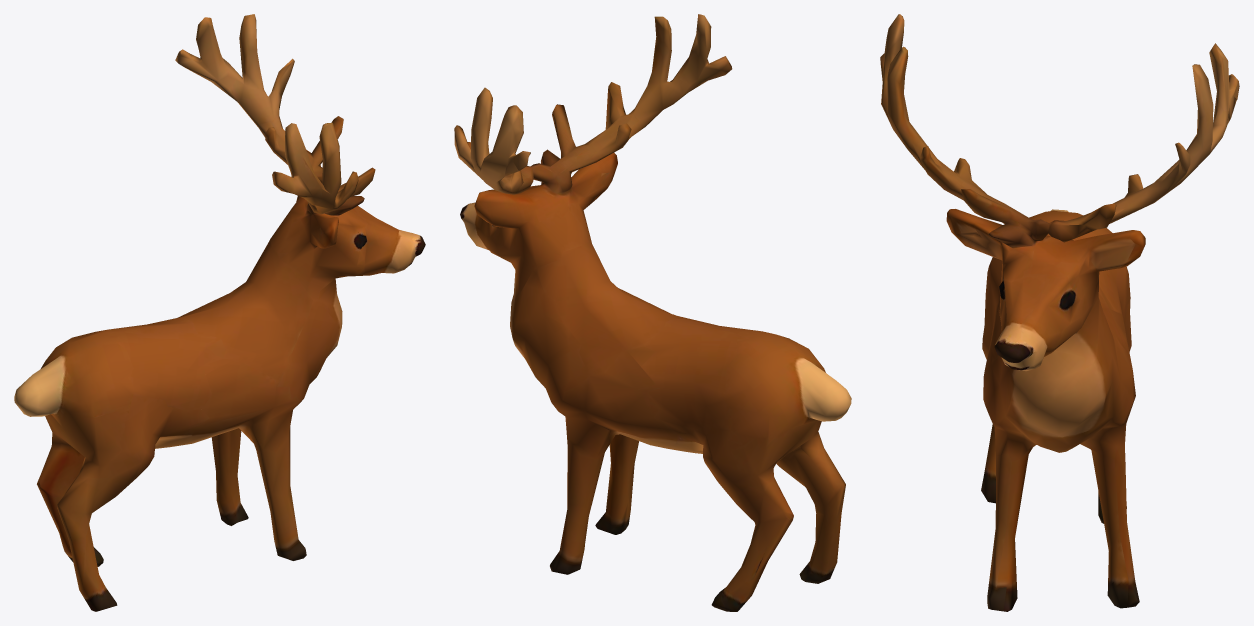
The model's file is deer.glb.
3 renders of one model, left to right at view 1: azimuth 30°, elevation 25°; view 2: azimuth 150°, elevation 25°; view 3: azimuth 270°, elevation 25°, orthographic. The views are drawn at different scales.
Parts seen in each view (by area): view 1: tripo_node_60834713-6cd3-450c-aa1d-8cff0a3fca68; view 2: tripo_node_60834713-6cd3-450c-aa1d-8cff0a3fca68; view 3: tripo_node_60834713-6cd3-450c-aa1d-8cff0a3fca68.
Part boxes in pixels (x1,y1,x2,y2): tripo_node_60834713-6cd3-450c-aa1d-8cff0a3fca68: (14, 14, 425, 611); tripo_node_60834713-6cd3-450c-aa1d-8cff0a3fca68: (454, 14, 851, 611); tripo_node_60834713-6cd3-450c-aa1d-8cff0a3fca68: (880, 14, 1239, 611).
Size of the model in its own units: 0.8314 by 0.9802 by 0.5579.
Materials: 1 (1 with a texture image).
